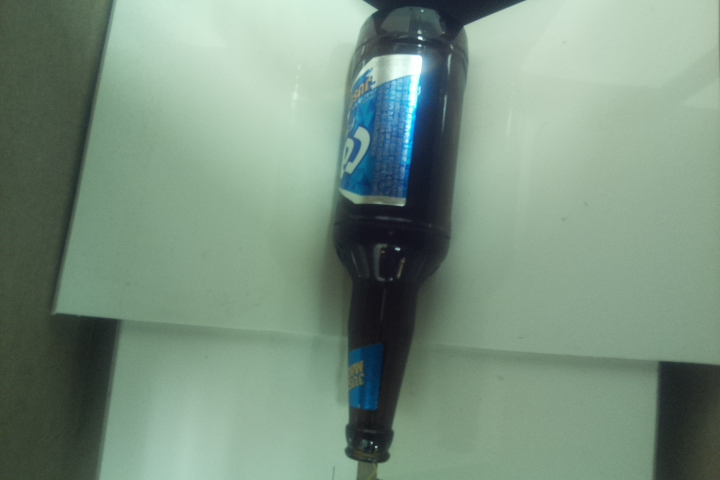makju: (331, 1, 473, 466)
